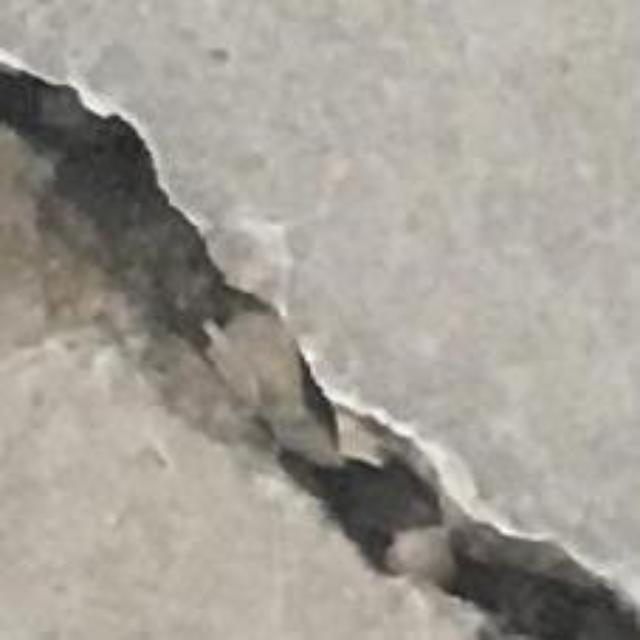crack: (0, 71, 639, 639)
